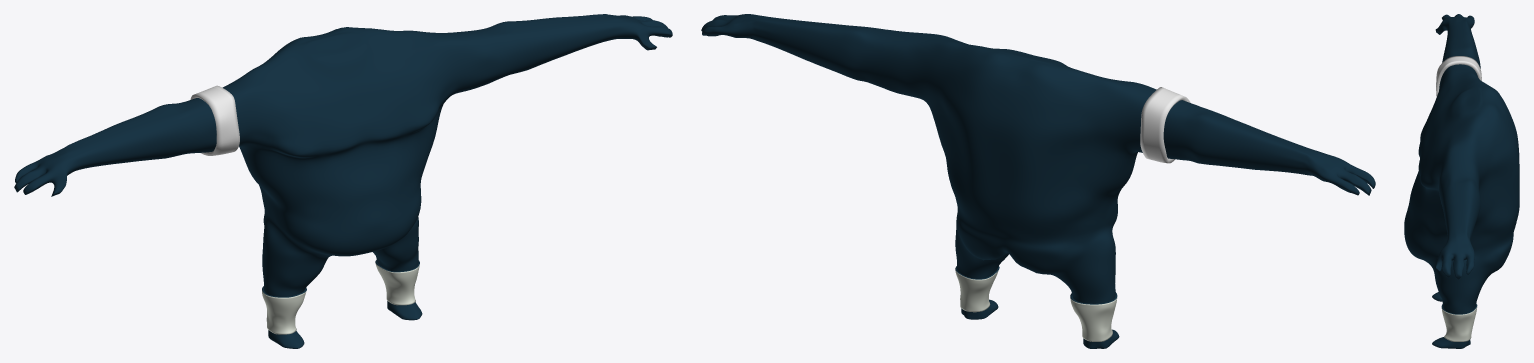
The model's file is melee.fbx.
3 views of the same model, side by side, from view 1: azimuth 30°, elevation 25°; view 2: azimuth 150°, elevation 25°; view 3: azimuth 270°, elevation 25° (orthographic). The views are drawn at different scales.
Parts seen in each view (by area): view 1: Body_high.004, Body_high.001, Body_high.002, Body_high.003; view 2: Body_high.004, Body_high.001, Body_high.002, Body_high.003; view 3: Body_high.004, Body_high.003, Body_high.001.
Part boxes in pixels (left/top/right/bottom): Body_high.004: left=14, top=14, right=672, bottom=348; Body_high.001: left=190, top=85, right=239, bottom=155; Body_high.002: left=262, top=286, right=306, bottom=334; Body_high.003: left=375, top=260, right=419, bottom=305; Body_high.004: left=701, top=14, right=1375, bottom=348; Body_high.001: left=1140, top=87, right=1190, bottom=163; Body_high.002: left=1070, top=292, right=1117, bottom=341; Body_high.003: left=955, top=266, right=999, bottom=312; Body_high.004: left=1404, top=14, right=1519, bottom=348; Body_high.003: left=1441, top=304, right=1477, bottom=341; Body_high.001: left=1436, top=56, right=1481, bottom=96.
Bounding box in the file's own units: 1274 × 517 × 241.
